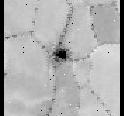good_void: (51, 45, 71, 63)
